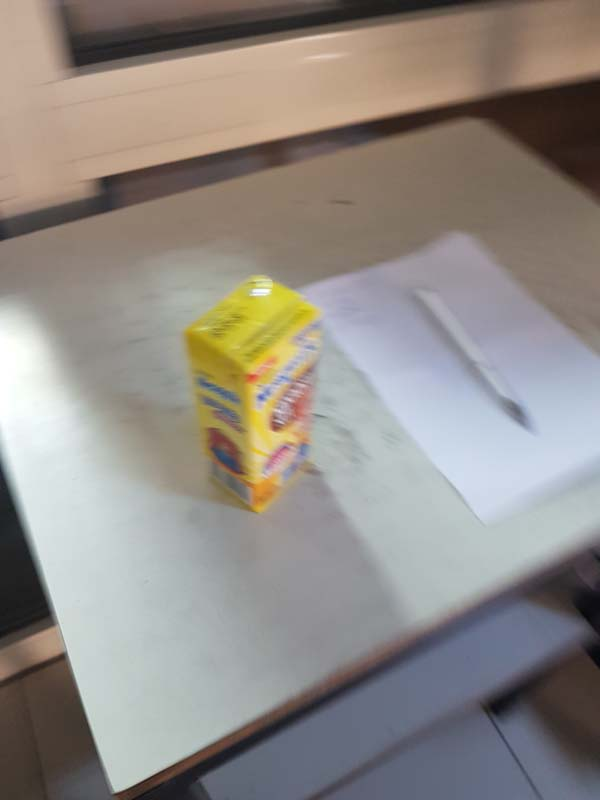nesquick200ml: (188, 264, 323, 515)
